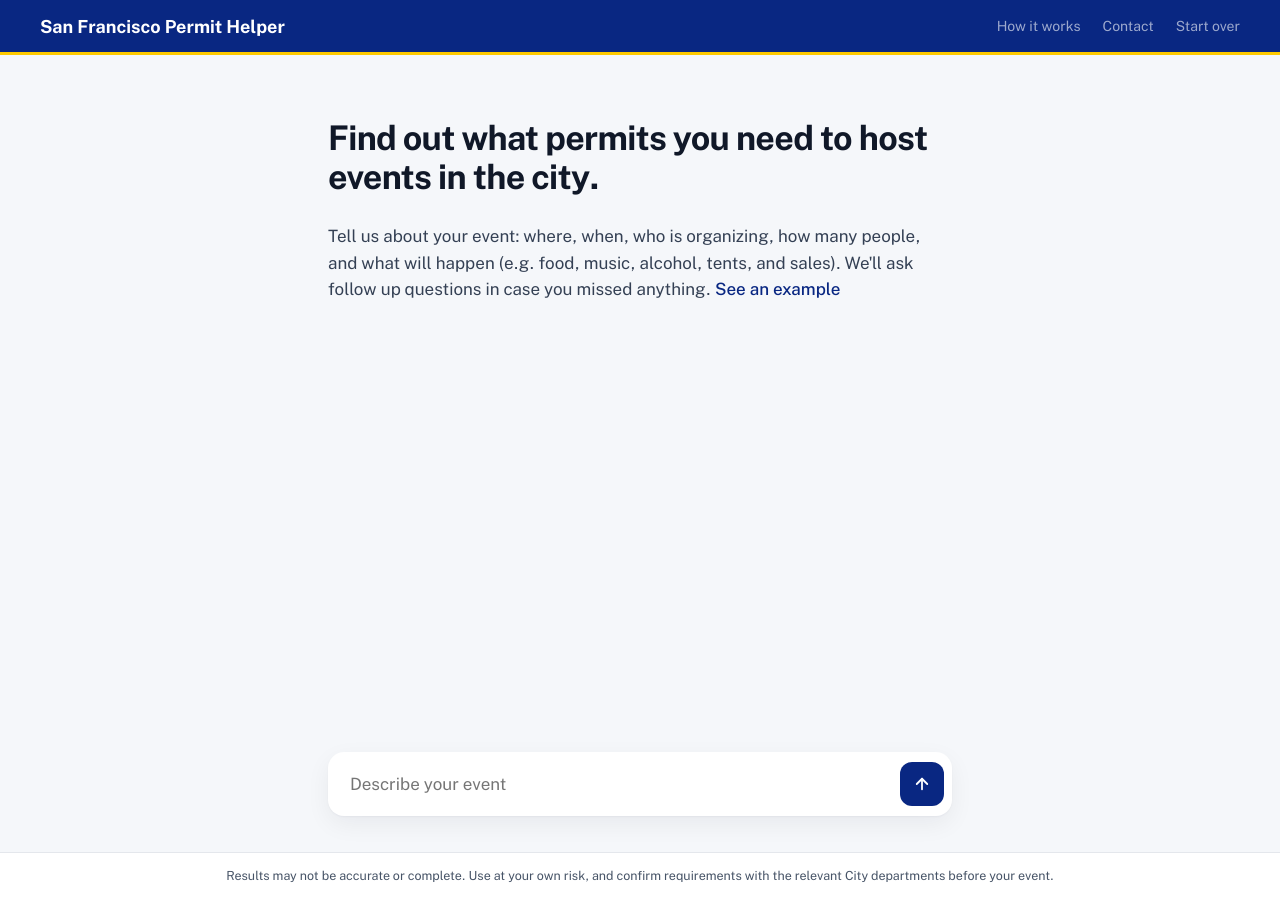
ContactPage › is linked from the header on every page
Click the link "Contact": (1128, 26) [1102,18,1154,34]
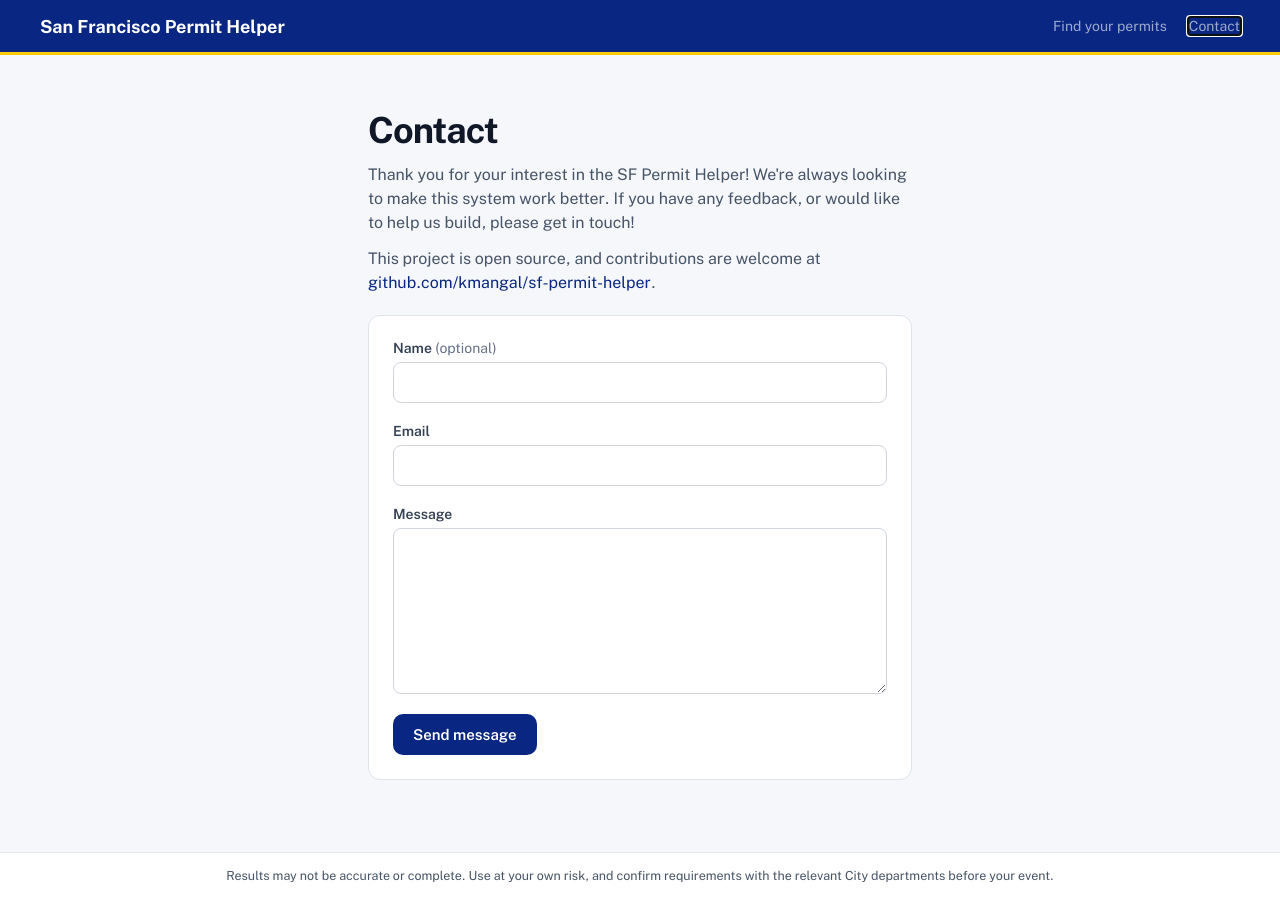
expect the link "Contact" is shown: met, box [1189,18,1240,34]
expect the heading "Contact" is shown: met, box [368,109,498,151]
expect the link "Find your permits" is shown: met, box [1053,18,1167,34]
